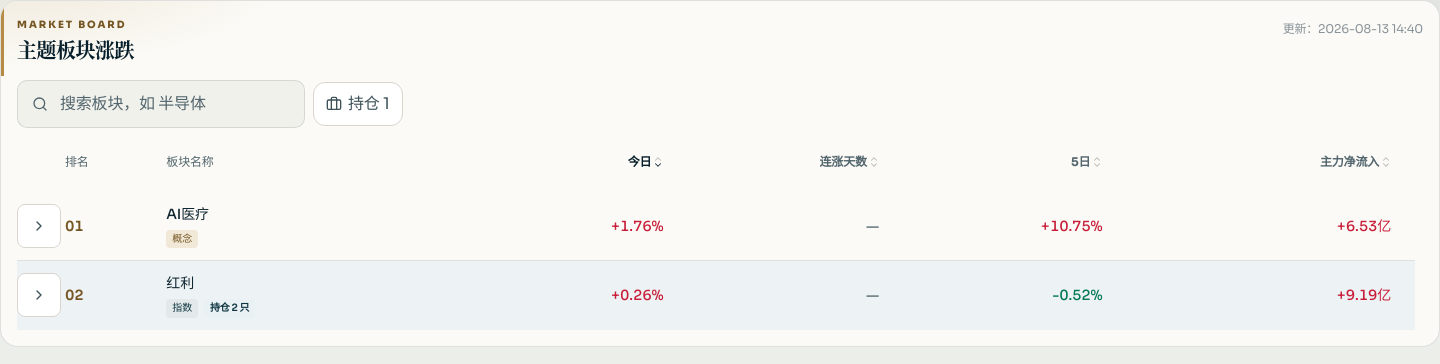
Test: ThemeSectorOverview 搜索与持仓快捷入口 › 搜索无结果时给出空状态
Type "没有这个板" into the search field named "按名称搜索主题板块" at (175, 104), box [60,82,290,126]
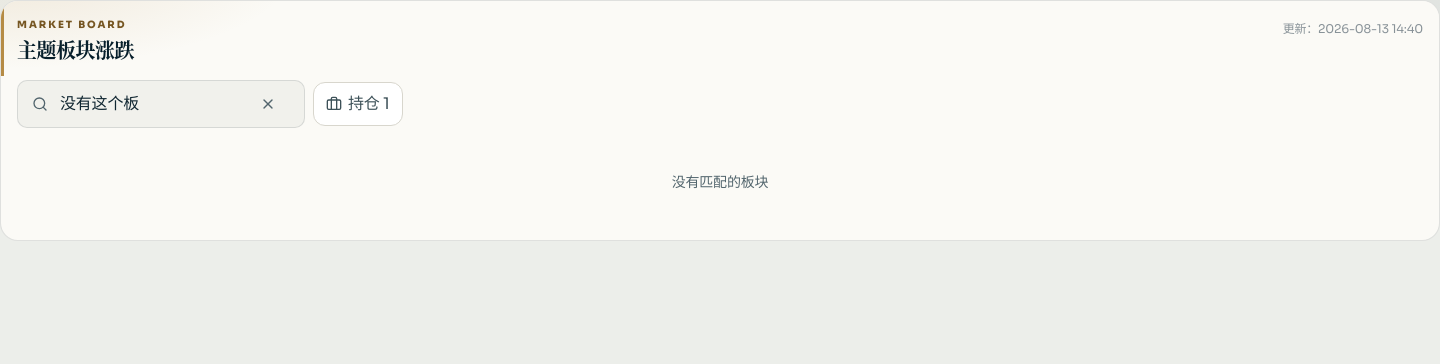
Expected: the text with test id "theme-sector-empty-filter" reads "没有匹配的板块", [672,173,768,191]
